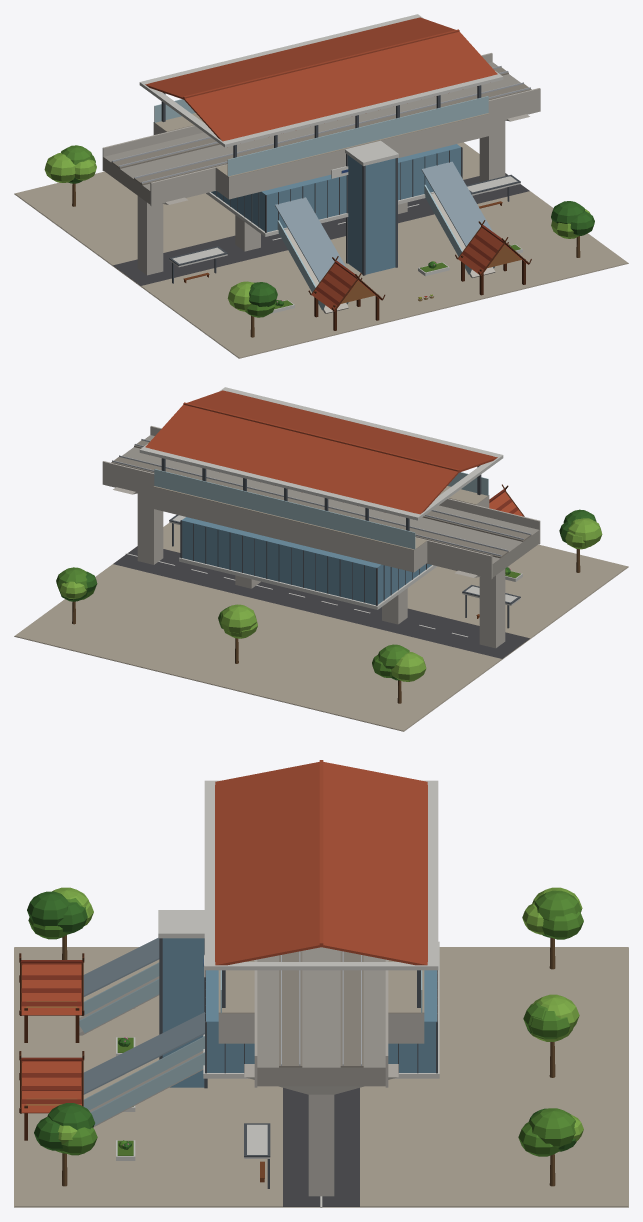
Rendered from station.glb.
The picture shows the model from 3 angles, top to bottom: view 1: azimuth 30°, elevation 25°; view 2: azimuth 150°, elevation 25°; view 3: azimuth 270°, elevation 25°; orthographic projection. The views are drawn at different scales.
Visible parts, largest first — view 1: body; view 2: body; view 3: body.
Part boxes in pixels (bbox=[...]): body: bbox=[14, 14, 628, 358]; body: bbox=[14, 387, 628, 731]; body: bbox=[14, 760, 628, 1207].
Bounding box in the file's own units: 47.95 × 19.48 × 47.9.
